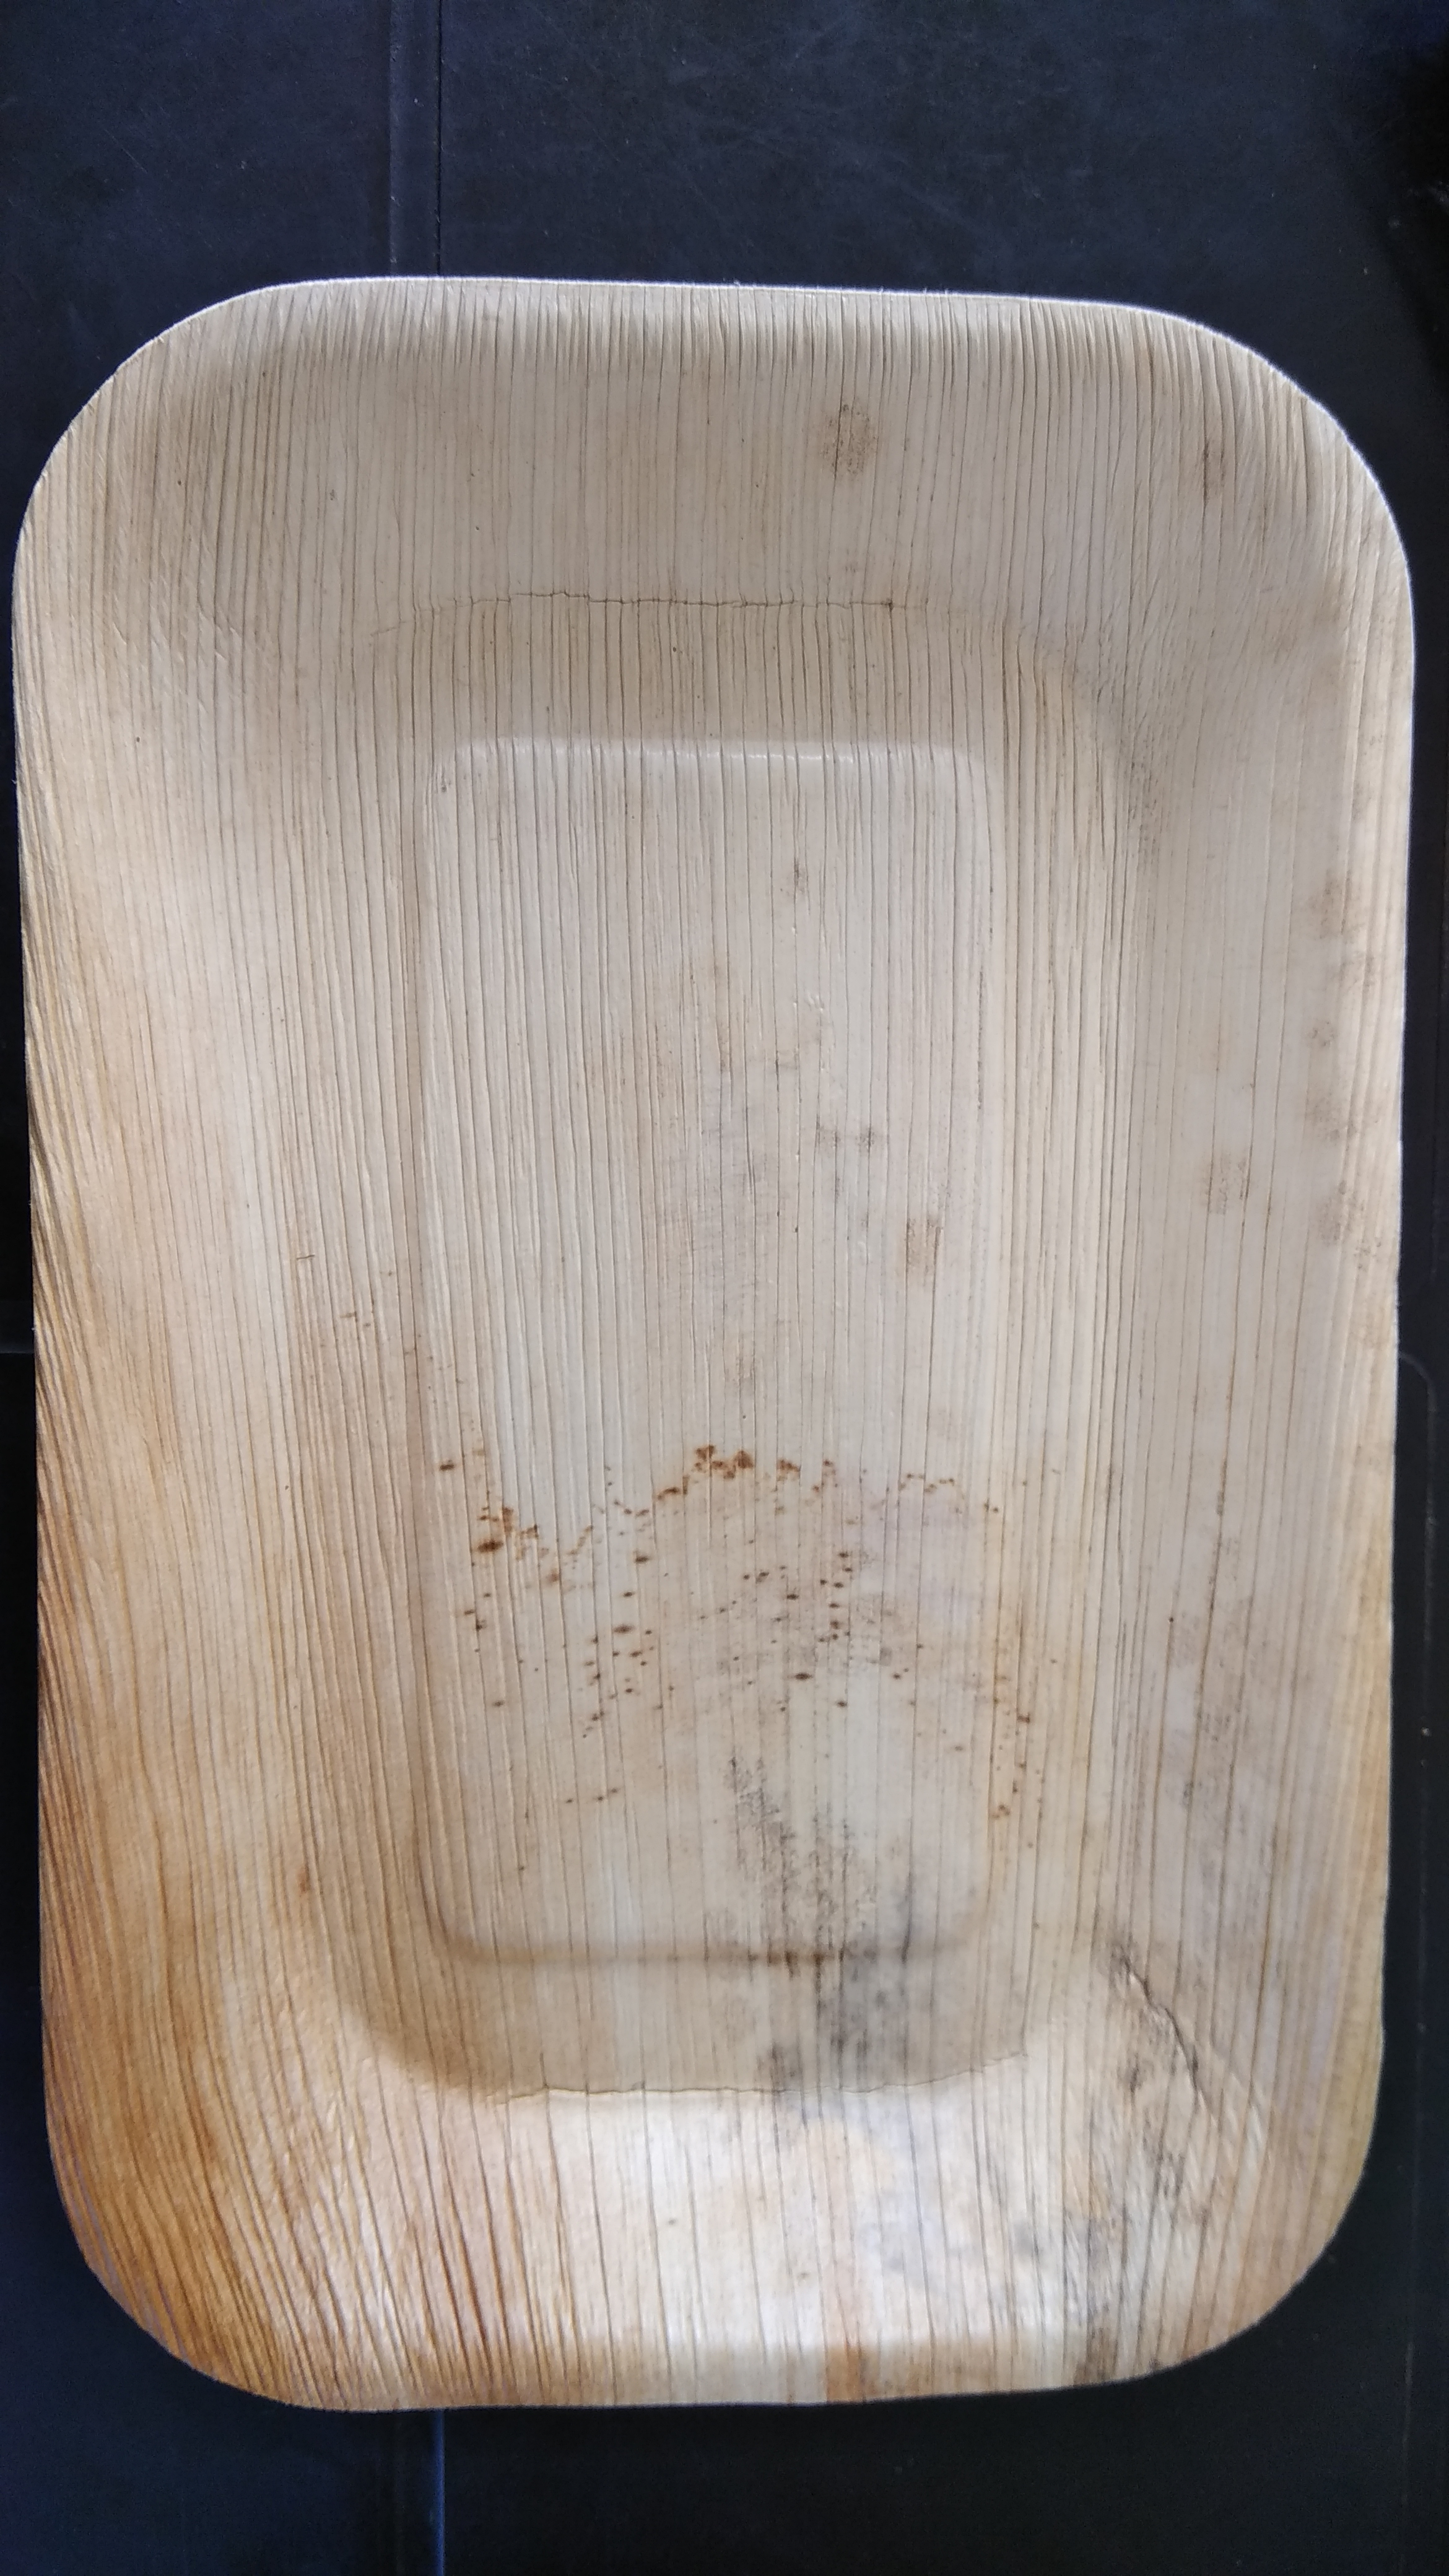plates: (34, 356, 1391, 2399)
